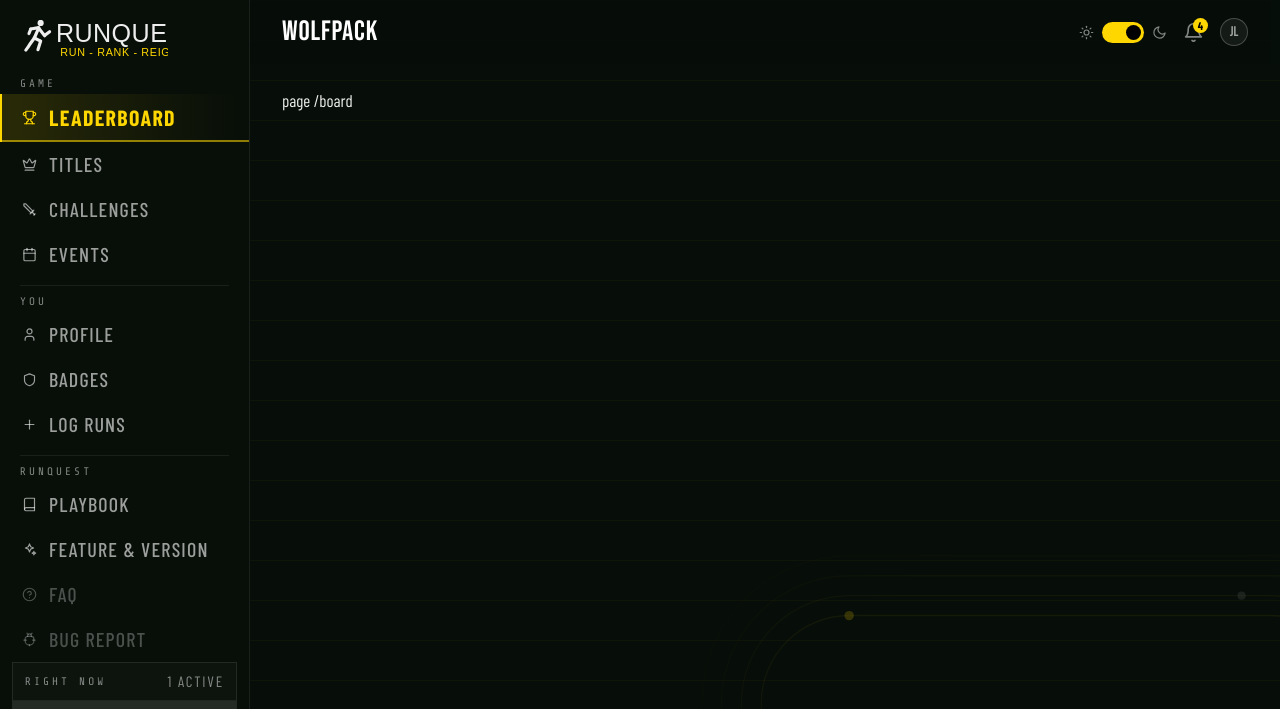
Test: popovern › Mark all read som misslyckas: räknaren är kvar och felet står i en alert-region
Click the button "4": point(1194, 32) [1183,22,1204,42]
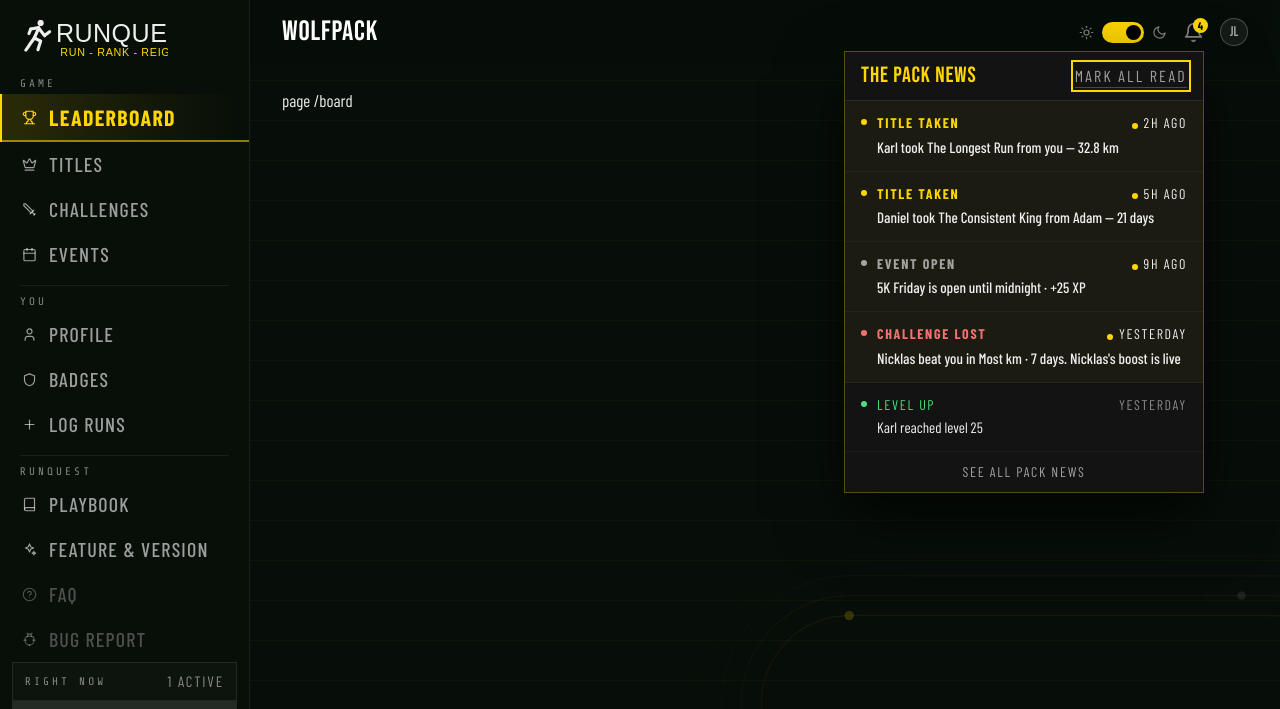
Click the button "Mark all read": point(1131, 76) [1075,64,1187,88]
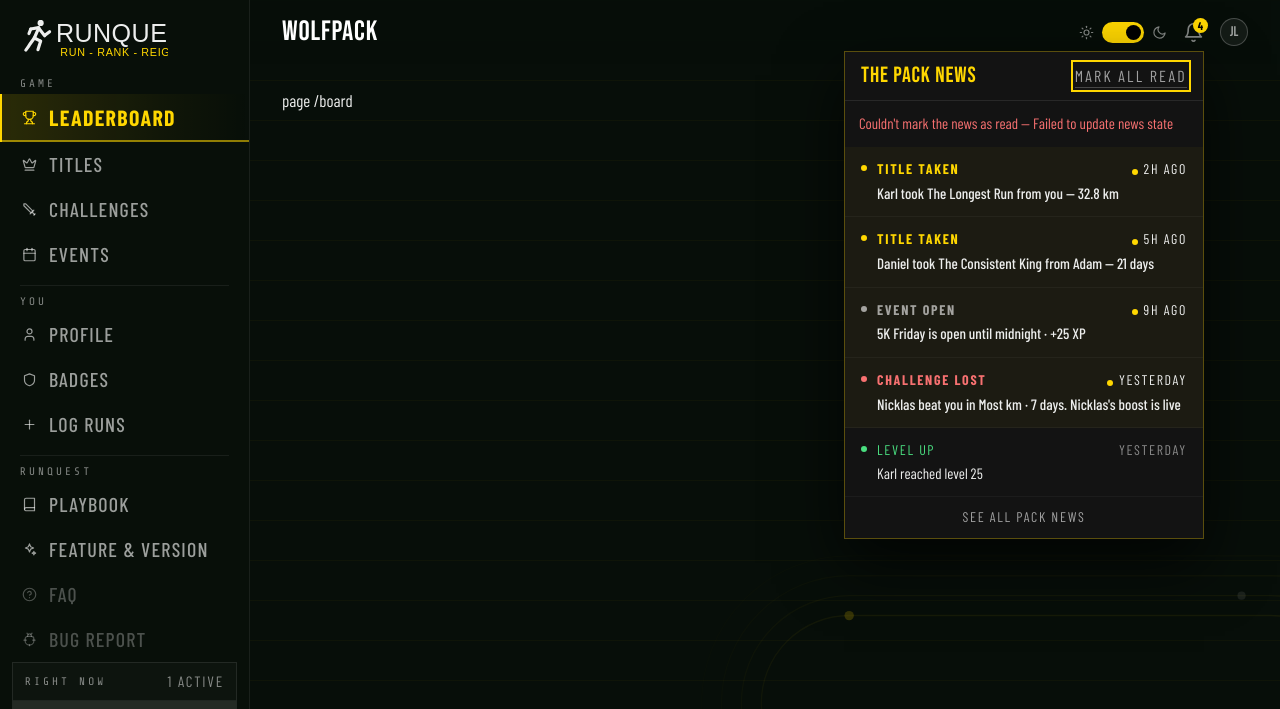
Expected: the button named "Pack news, 4 unread" is shown, [1183,22,1204,42]
Expected: the message reads "Couldn't mark the news as read — Failed to update news state", [859,114,1173,132]
